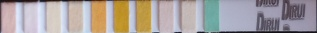color 1: (1, 3, 14, 33)
color 10: (205, 2, 217, 29)
color 2: (24, 3, 36, 33)
color 3: (47, 3, 59, 33)
color 4: (70, 3, 81, 33)
color 5: (93, 2, 104, 33)
color 6: (115, 2, 127, 31)
color 7: (138, 2, 149, 31)
color 8: (160, 3, 171, 31)
color 9: (183, 3, 194, 30)
